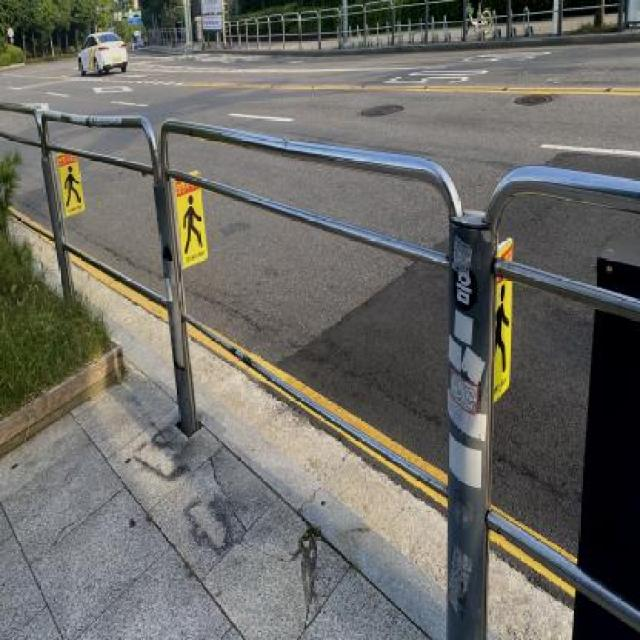bump: (0, 314, 138, 464)
fence: (128, 85, 553, 640)
